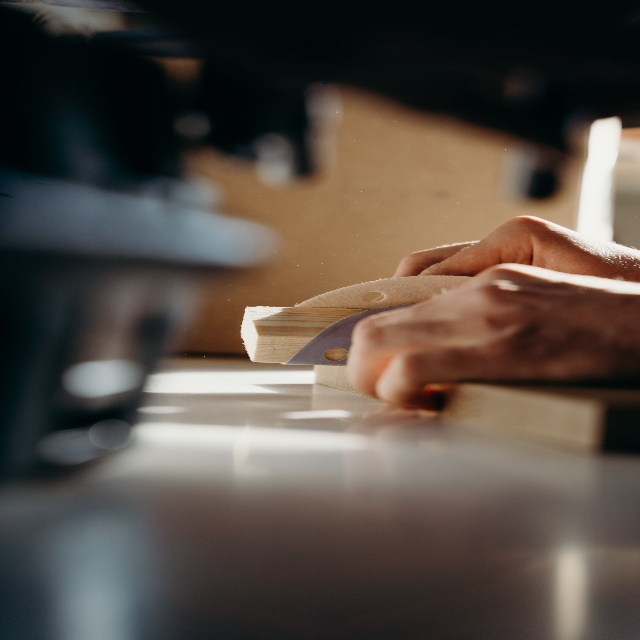Sin_guantes: (343, 269, 640, 409), (394, 207, 640, 274)
